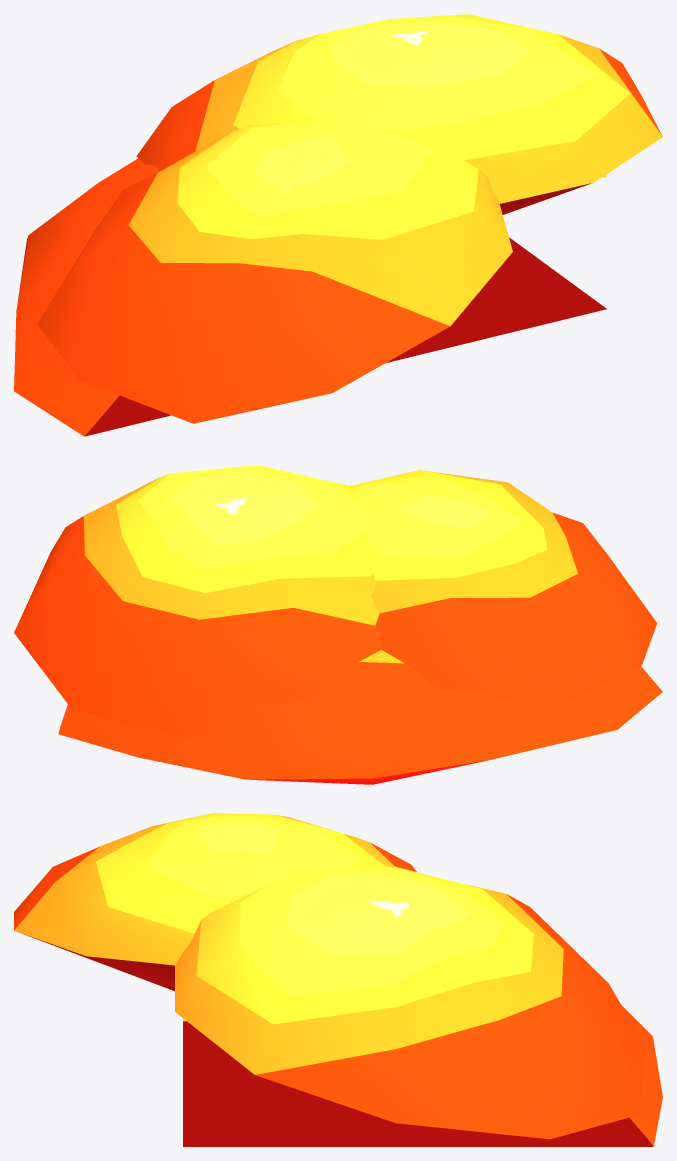
Rendered from shot_zflame_175.glb.
3 renders of one model, top to bottom at view 1: azimuth 30°, elevation 25°; view 2: azimuth 150°, elevation 25°; view 3: azimuth 270°, elevation 25°, orthographic. The views are drawn at different scales.
Visible parts, largest first — view 1: zflame_3_billow1_b175, zflame_3_billow0_b175, zflame_3_bed_b175; view 2: zflame_3_billow0_b175, zflame_3_billow1_b175, zflame_3_bed_b175; view 3: zflame_3_billow0_b175, zflame_3_billow1_b175, zflame_3_bed_b175.
Boxes of the visible parts, <box> form: zflame_3_billow1_b175: <box>37,122,512,423</box>; zflame_3_billow0_b175: <box>136,14,662,214</box>; zflame_3_bed_b175: <box>14,158,606,436</box>; zflame_3_billow0_b175: <box>14,465,381,738</box>; zflame_3_billow1_b175: <box>350,470,657,706</box>; zflame_3_bed_b175: <box>58,650,662,784</box>; zflame_3_billow0_b175: <box>175,866,645,1139</box>; zflame_3_billow1_b175: <box>14,813,416,990</box>; zflame_3_bed_b175: <box>183,1005,662,1146</box>.
Bounding box in the file's own units: 12.18 × 3.69 × 10.69.
